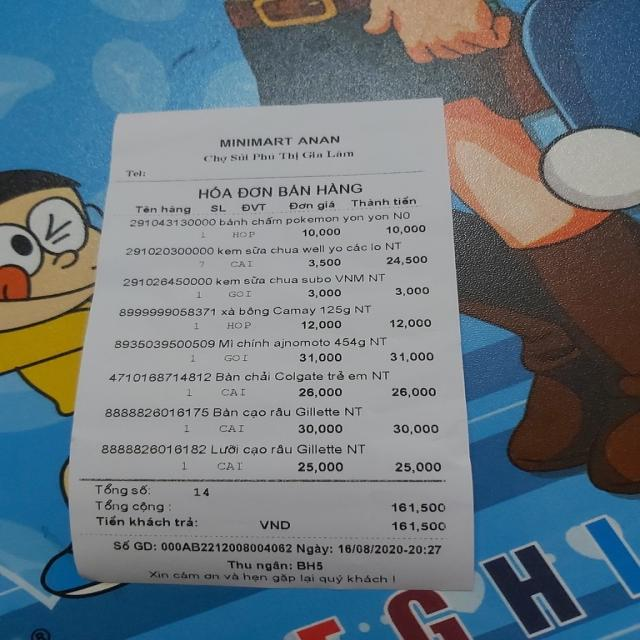Date: (336, 542, 404, 556)
Store_Name: (217, 132, 344, 148)
amount_number: (389, 499, 449, 514)
label_total: (96, 498, 166, 513)
